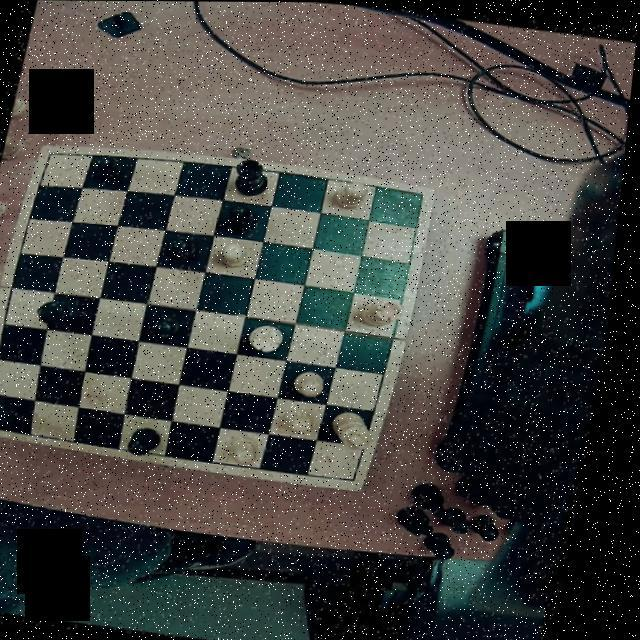chess-table-corners: (408, 184, 437, 208), (351, 464, 377, 488), (40, 147, 64, 167), (0, 416, 17, 434)
